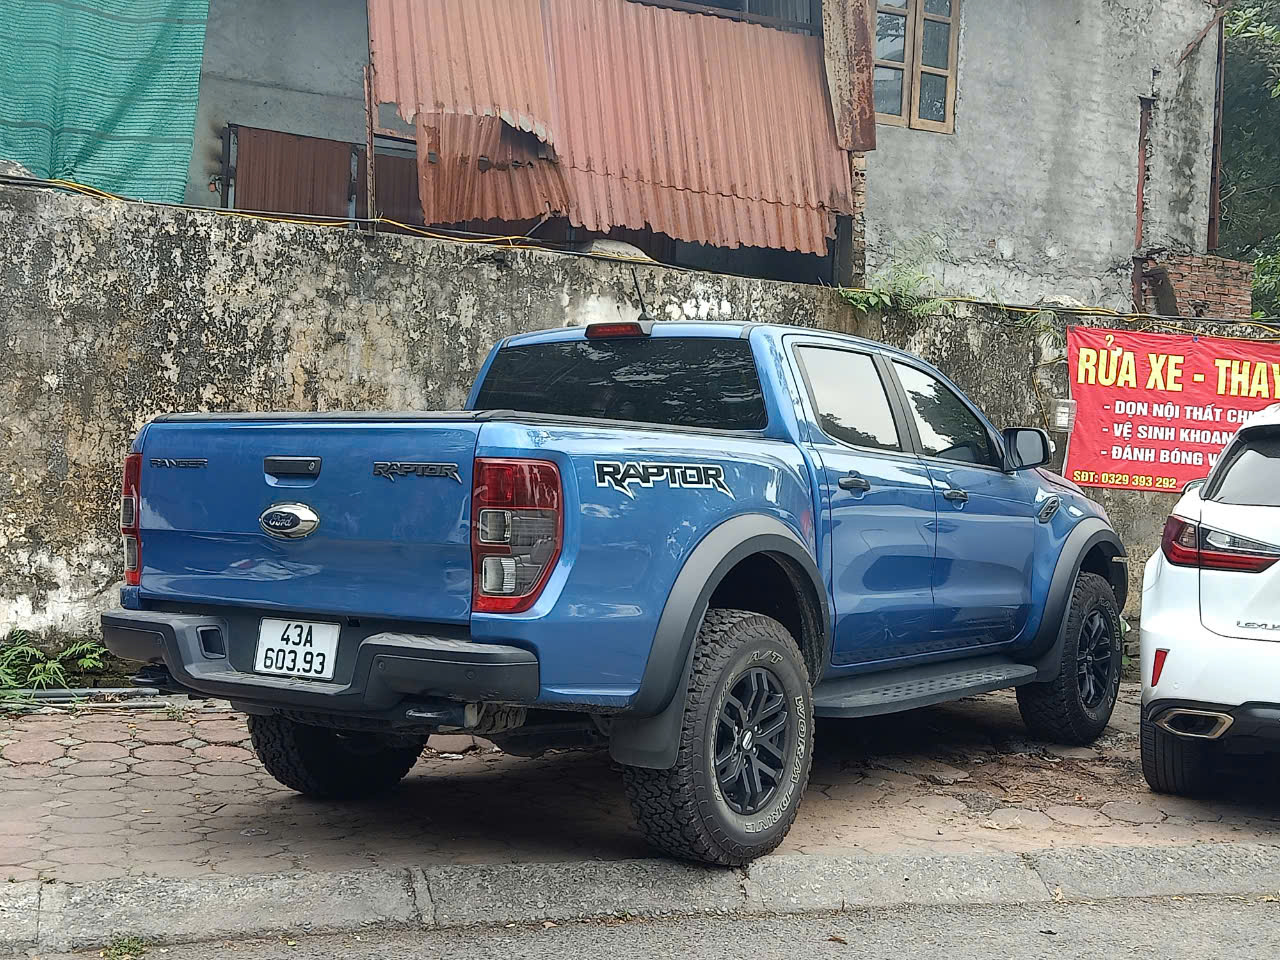bien_so: (252, 618, 340, 679)
